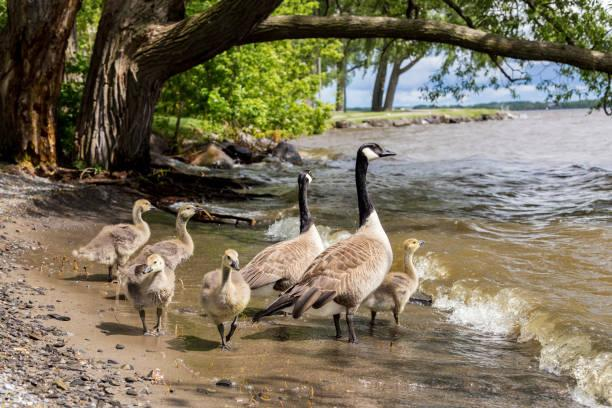Canadian-Goose: (303, 138, 403, 323), (244, 171, 325, 273), (83, 200, 145, 264), (387, 235, 431, 321), (203, 251, 248, 322), (151, 197, 201, 250), (134, 258, 173, 320)
